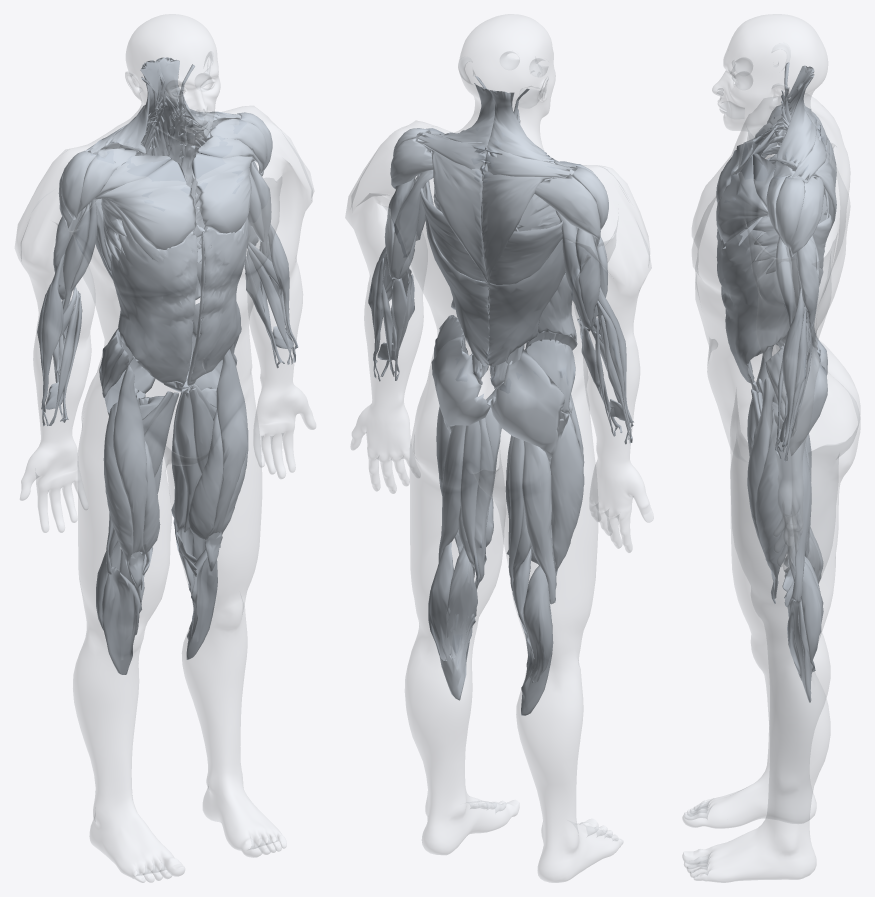
File: body-map-83dd70bd.glb
3 views of the same model, side by side, from view 1: azimuth 30°, elevation 25°; view 2: azimuth 150°, elevation 25°; view 3: azimuth 270°, elevation 25° (orthographic). The views are drawn at different scales.
Visible parts, largest first — view 1: shell, abs, quads, chest, forearms, calves, adductors, delts, biceps, glutes, neck, traps (+4 smaller); view 2: shell, traps, lats, hamstrings, glutes, calves, forearms, triceps, delts, quads, abs, biceps (+2 smaller); view 3: shell, abs, quads, chest, delts, traps, calves, forearms, hamstrings, glutes, triceps, biceps (+3 smaller).
Part boxes in pixels (bbox=[...]): shell: bbox=[15, 14, 315, 882]; abs: bbox=[101, 108, 248, 387]; quads: bbox=[103, 349, 248, 589]; chest: bbox=[94, 132, 258, 261]; forearms: bbox=[37, 224, 297, 426]; calves: bbox=[96, 525, 217, 674]; adductors: bbox=[139, 384, 216, 532]; delts: bbox=[58, 112, 272, 228]; biceps: bbox=[63, 161, 271, 312]; glutes: bbox=[99, 303, 239, 415]; neck: bbox=[121, 58, 194, 165]; traps: bbox=[86, 57, 240, 157]; shell: bbox=[345, 14, 653, 882]; traps: bbox=[417, 85, 573, 283]; lats: bbox=[419, 173, 578, 367]; hamstrings: bbox=[438, 418, 556, 604]; glutes: bbox=[431, 315, 575, 457]; calves: bbox=[428, 537, 553, 715]; forearms: bbox=[368, 246, 633, 444]; triceps: bbox=[384, 170, 600, 331]; delts: bbox=[390, 128, 608, 246]; quads: bbox=[436, 348, 584, 577]; abs: bbox=[433, 177, 577, 363]; biceps: bbox=[391, 144, 607, 341]; shell: bbox=[682, 14, 860, 882]; abs: bbox=[716, 120, 827, 384]; quads: bbox=[747, 345, 792, 603]; chest: bbox=[716, 117, 783, 248]; delts: bbox=[766, 105, 823, 256]; traps: bbox=[777, 66, 836, 234]; calves: bbox=[787, 527, 823, 702]; forearms: bbox=[775, 286, 812, 461]; hamstrings: bbox=[782, 419, 811, 607]; glutes: bbox=[765, 335, 827, 455]; triceps: bbox=[795, 235, 819, 332]; biceps: bbox=[775, 125, 794, 326].
Size of the model in its own units: 0.5447 by 1.44 by 0.2804.
